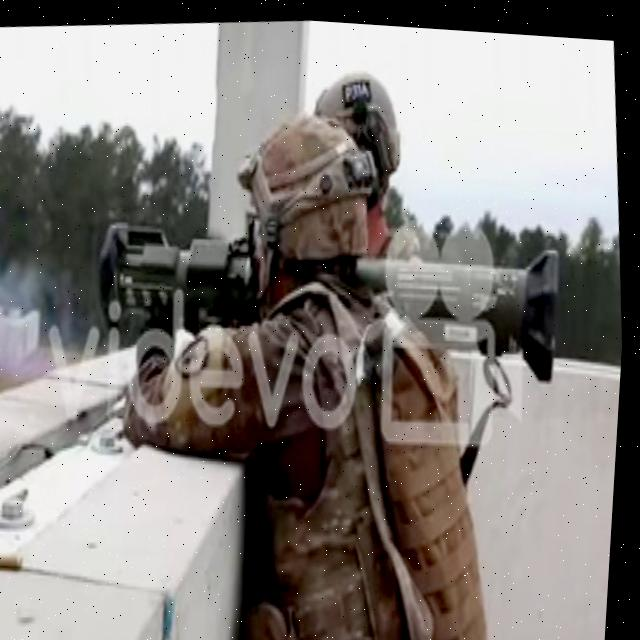rocket: (88, 170, 578, 429)
